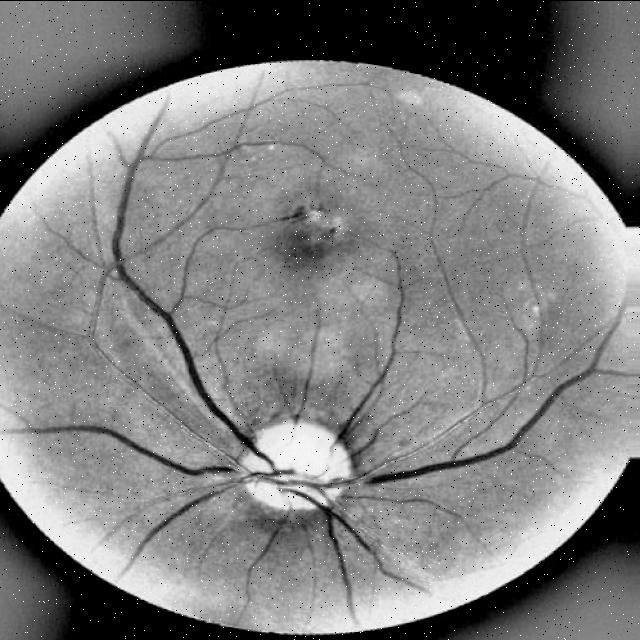Macula: (264, 177, 363, 275)
Nerves: (6, 115, 288, 559), (355, 343, 608, 485), (298, 492, 426, 618), (334, 254, 412, 441)
Optic Disk: (235, 417, 357, 522)
